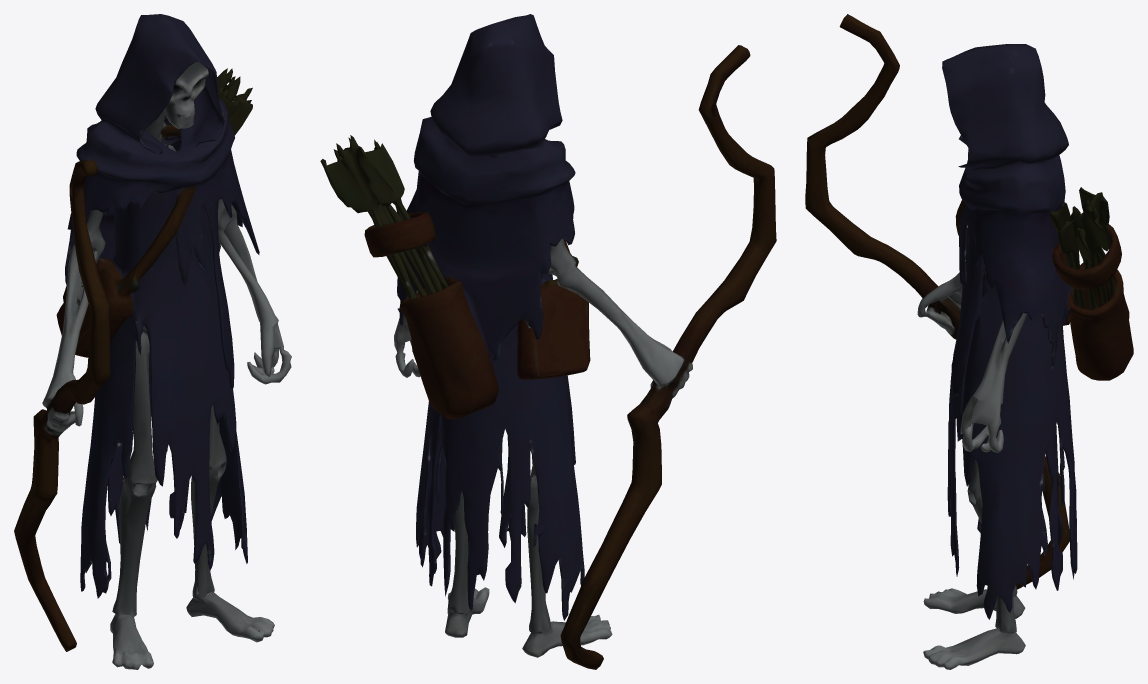
Rendered from shadow-archer.glb.
The picture shows the model from 3 angles, left to right: view 1: azimuth 30°, elevation 25°; view 2: azimuth 150°, elevation 25°; view 3: azimuth 270°, elevation 25°; orthographic projection. The views are drawn at different scales.
Parts seen in each view (by area): view 1: world; view 2: world; view 3: world.
Boxes of the visible parts, box(x1,y1,x2,y2) form: world: box(14, 14, 291, 669); world: box(320, 14, 776, 669); world: box(805, 14, 1133, 669).
Bounding box in the file's own units: 0.5159 × 1 × 0.5038.
1 material, 1 textured.
